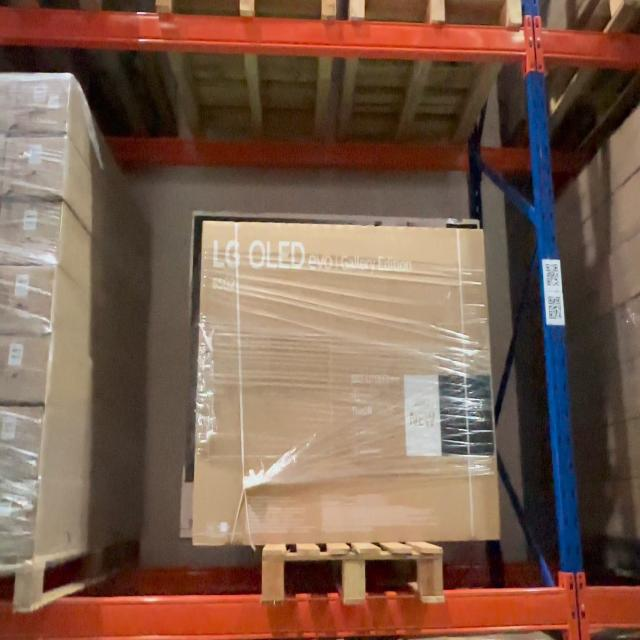box: (203, 229, 484, 543), (10, 78, 70, 136), (5, 137, 63, 195), (0, 202, 56, 262), (0, 265, 48, 330), (0, 335, 44, 402), (0, 406, 37, 478)
